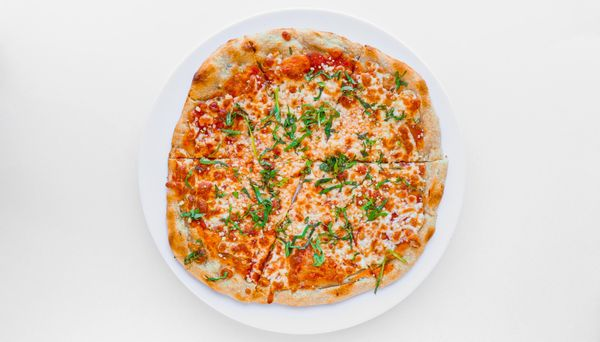curry: (1, 1, 578, 335)
sandwich: (164, 27, 448, 307)
